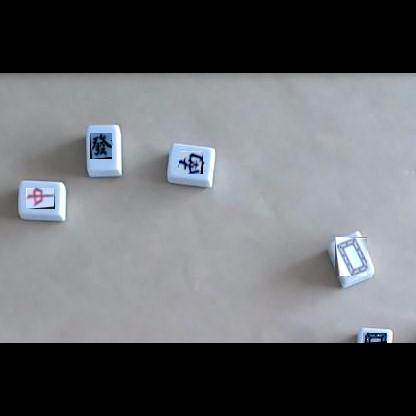2z: (179, 151, 203, 174)
5z: (335, 237, 367, 276), (363, 333, 387, 343)
6z: (90, 133, 112, 159)
7z: (26, 188, 55, 209)
